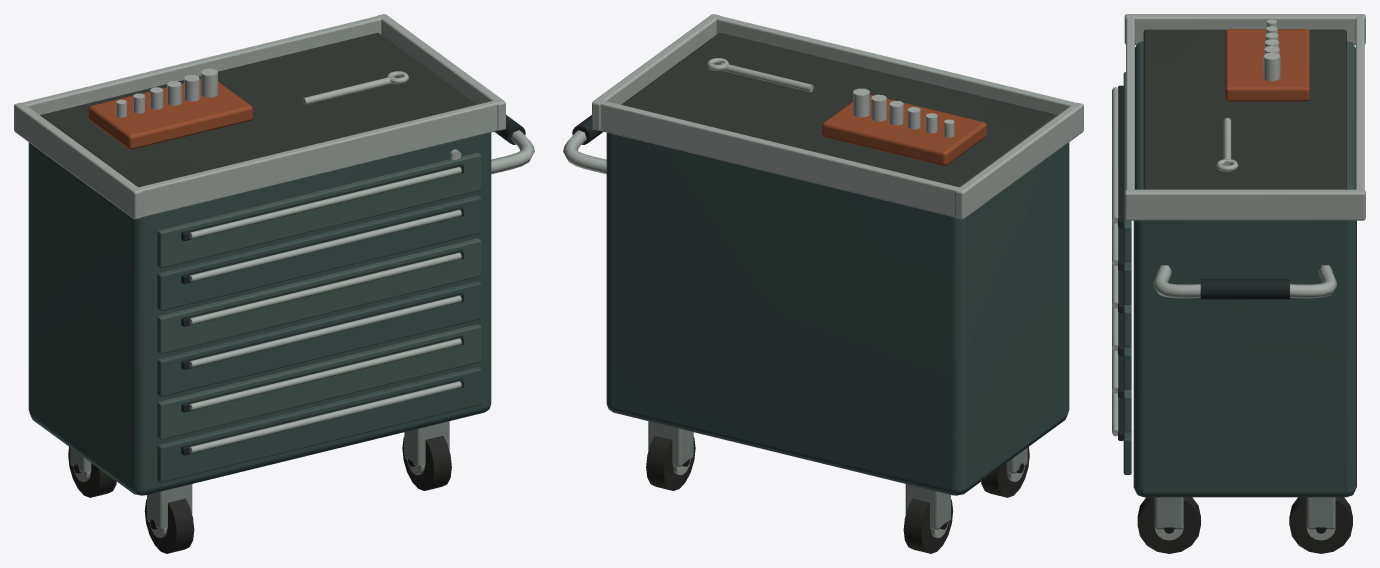
The model's file is tool-trolley-near.glb.
3 views of the same model, side by side, from view 1: azimuth 30°, elevation 25°; view 2: azimuth 150°, elevation 25°; view 3: azimuth 270°, elevation 25° (orthographic).
Parts seen in each view (by area): view 1: Welded cabinet carcass, Rubber-lined recessed worktop, Rolled worktop edge.003, Separated drawer face.003, Separated drawer face.001, Separated drawer face, Separated drawer face.002, Separated drawer face.004, Separated drawer face.005, Rolled worktop edge.002, Tool tray, Rolled worktop edge (+20 smaller); view 2: Welded cabinet carcass, Rubber-lined recessed worktop, Rolled worktop edge.002, Rolled worktop edge.003, Tool tray, Rolled worktop edge, Rolled worktop edge.001, Swivel caster rubber tread.002, Swivel caster rubber tread, Caster swivel fork.002, Caster swivel fork, Bent tubular pushing handle (+2 smaller); view 3: Welded cabinet carcass, Rubber-lined recessed worktop, Rolled worktop edge.001, Tool tray, Rolled worktop edge, Swivel caster rubber tread.002, Swivel caster rubber tread.003, Rubber trolley handle grip, Bent tubular pushing handle, Rolled worktop edge.002, Rolled worktop edge.003, Caster swivel fork.003 (+11 smaller).
Part boxes in pixels (left/top/right/bottom): Welded cabinet carcass: left=28, top=132, right=491, bottom=495; Rubber-lined recessed worktop: left=40, top=33, right=476, bottom=187; Rolled worktop edge.003: left=137, top=100, right=499, bottom=217; Separated drawer face.003: left=157, top=238, right=481, bottom=353; Separated drawer face.001: left=157, top=324, right=481, bottom=439; Separated drawer face: left=157, top=367, right=481, bottom=482; Separated drawer face.002: left=157, top=281, right=481, bottom=396; Separated drawer face.004: left=157, top=195, right=481, bottom=310; Separated drawer face.005: left=157, top=152, right=481, bottom=268; Rolled worktop edge.002: left=22, top=15, right=381, bottom=115; Tool tray: left=88, top=79, right=252, bottom=149; Rolled worktop edge: left=14, top=102, right=142, bottom=219; Welded cabinet carcass: left=606, top=132, right=1069, bottom=495; Rubber-lined recessed worktop: left=621, top=33, right=1057, bottom=187; Rolled worktop edge.002: left=598, top=100, right=959, bottom=217; Rolled worktop edge.003: left=714, top=15, right=1075, bottom=115; Tool tray: left=822, top=94, right=986, bottom=165; Rolled worktop edge: left=955, top=102, right=1083, bottom=219; Rolled worktop edge.001: left=592, top=14, right=719, bottom=130; Swivel caster rubber tread.002: left=646, top=435, right=695, bottom=490; Swivel caster rubber tread: left=903, top=498, right=953, bottom=553; Caster swivel fork.002: left=648, top=421, right=693, bottom=466; Caster swivel fork: left=905, top=484, right=950, bottom=529; Bent tubular pushing handle: left=563, top=130, right=606, bottom=174; Welded cabinet carcass: left=1133, top=41, right=1356, bottom=497; Rubber-lined recessed worktop: left=1143, top=29, right=1346, bottom=189; Rolled worktop edge.001: left=1124, top=189, right=1365, bottom=220; Tool tray: left=1225, top=29, right=1309, bottom=101; Rolled worktop edge: left=1124, top=14, right=1365, bottom=44; Swivel caster rubber tread.002: left=1289, top=497, right=1352, bottom=553; Swivel caster rubber tread.003: left=1137, top=497, right=1200, bottom=553; Rubber trolley handle grip: left=1200, top=279, right=1289, bottom=299; Bent tubular pushing handle: left=1153, top=265, right=1336, bottom=298; Rolled worktop edge.002: left=1355, top=15, right=1364, bottom=190; Rolled worktop edge.003: left=1126, top=15, right=1134, bottom=189; Caster swivel fork.003: left=1154, top=497, right=1183, bottom=529.
Bounding box in the file's own units: 1.1 × 1.02 × 0.568.
